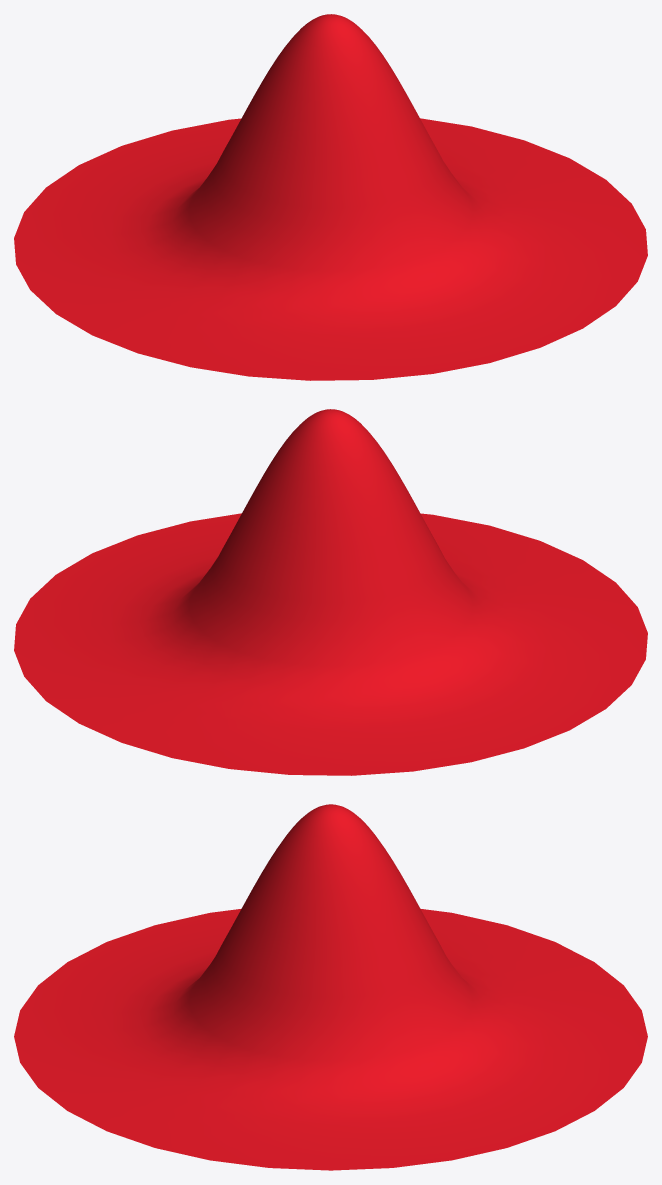
Rendered from human_v2.glb.
3 views of the same model, one above another, from view 1: azimuth 30°, elevation 25°; view 2: azimuth 150°, elevation 25°; view 3: azimuth 270°, elevation 25° (orthographic).
Parts seen in each view (by area): view 1: Circle; view 2: Circle; view 3: Circle.
Boxes of the visible parts, box(x1,y1,x2,y2) form: Circle: box(14, 14, 647, 380); Circle: box(14, 409, 647, 775); Circle: box(14, 804, 647, 1170).
Size of the model in its own units: 2 by 0.798 by 2.
